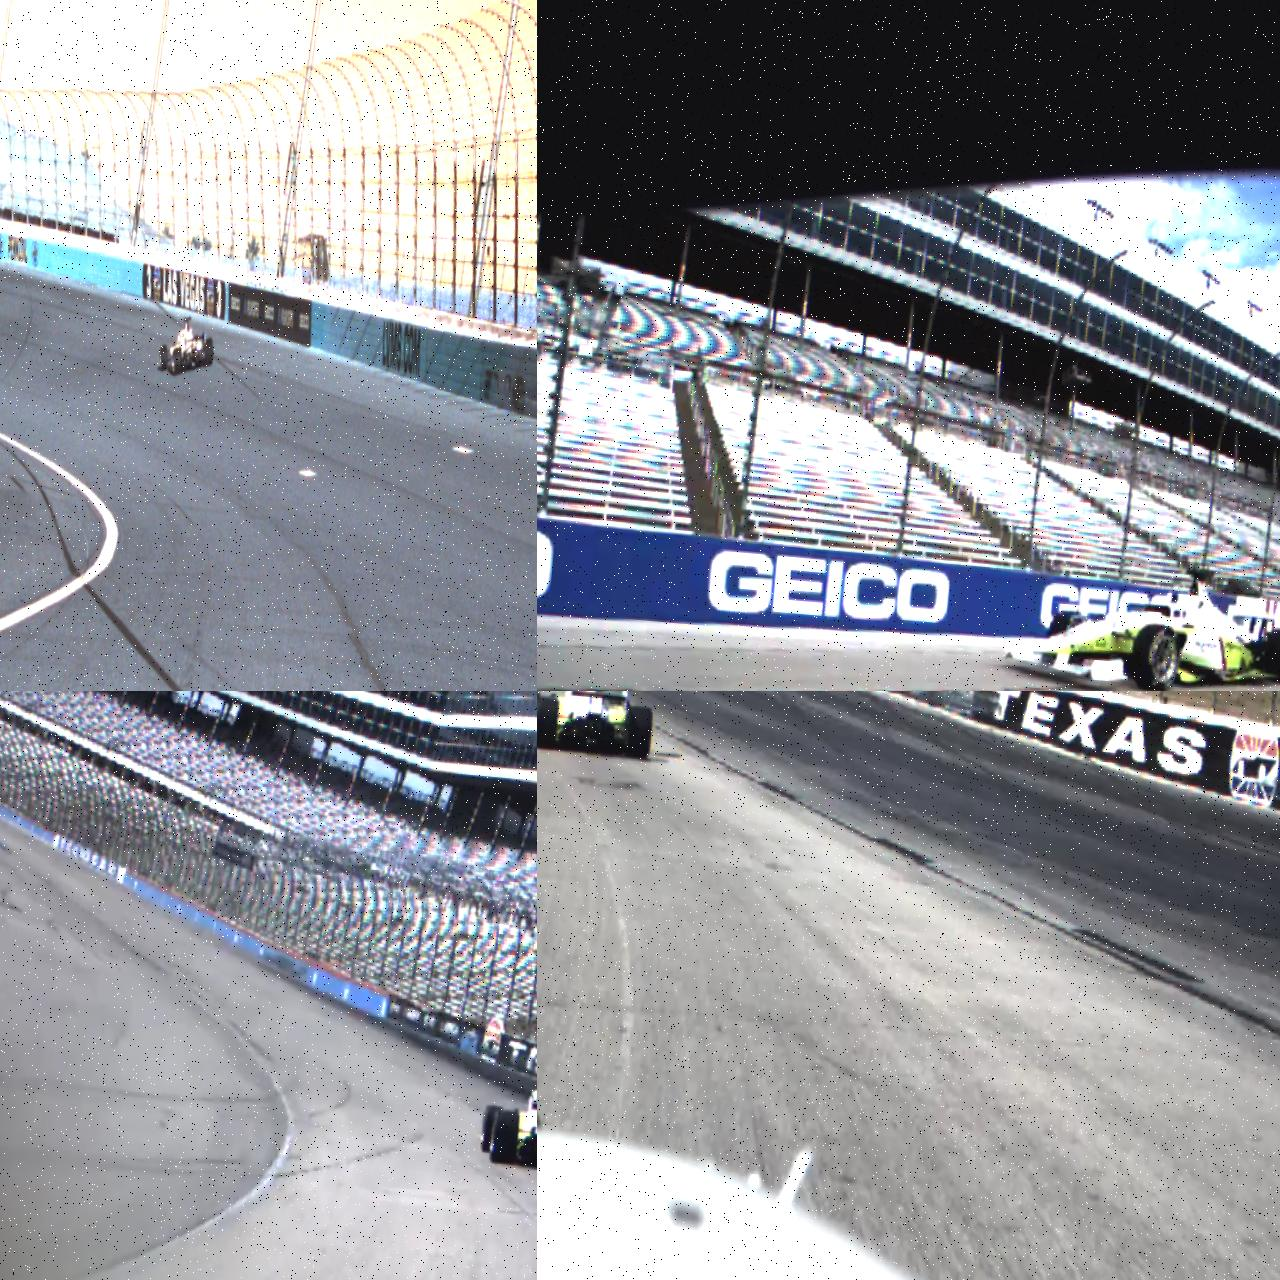AV: (1003, 552, 1280, 692), (537, 692, 659, 761), (478, 1061, 537, 1179), (157, 314, 217, 377)
Wheel: (1130, 622, 1182, 692), (1046, 610, 1087, 670), (489, 1110, 520, 1165), (626, 706, 654, 760), (537, 697, 559, 751), (481, 1104, 504, 1155), (1265, 627, 1280, 686), (203, 338, 215, 366), (171, 347, 182, 374), (158, 345, 168, 370)
